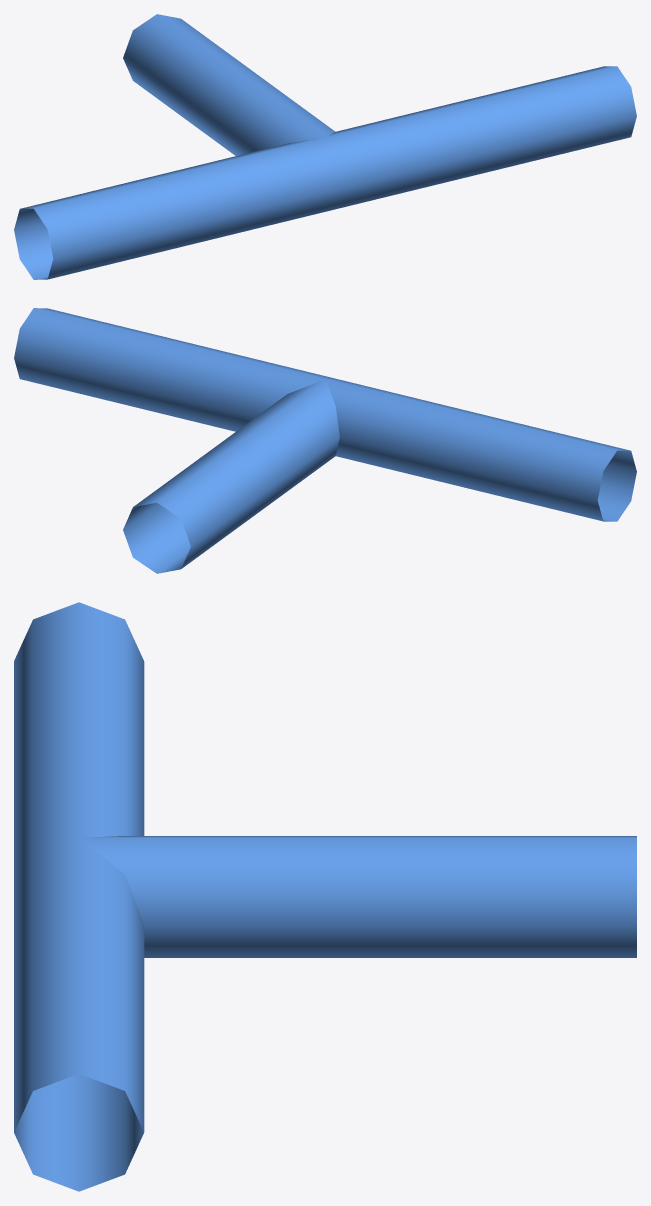
Rendered from Connection_AirPipeTee.fbx.
The picture shows the model from 3 angles, top to bottom: view 1: azimuth 30°, elevation 25°; view 2: azimuth 150°, elevation 25°; view 3: azimuth 270°, elevation 25°; orthographic projection. The views are drawn at different scales.
Visible parts, largest first — view 1: Run, Branch; view 2: Run, Branch; view 3: Run, Branch.
Boxes of the visible parts, x1,y1,x2,y2 form: Run: (14, 66, 636, 279); Branch: (123, 14, 335, 155); Run: (14, 308, 636, 521); Branch: (123, 379, 339, 573); Run: (14, 602, 144, 1191); Branch: (79, 836, 636, 957).
Bounding box in the file's own units: 0.6 × 0.07 × 0.335.
